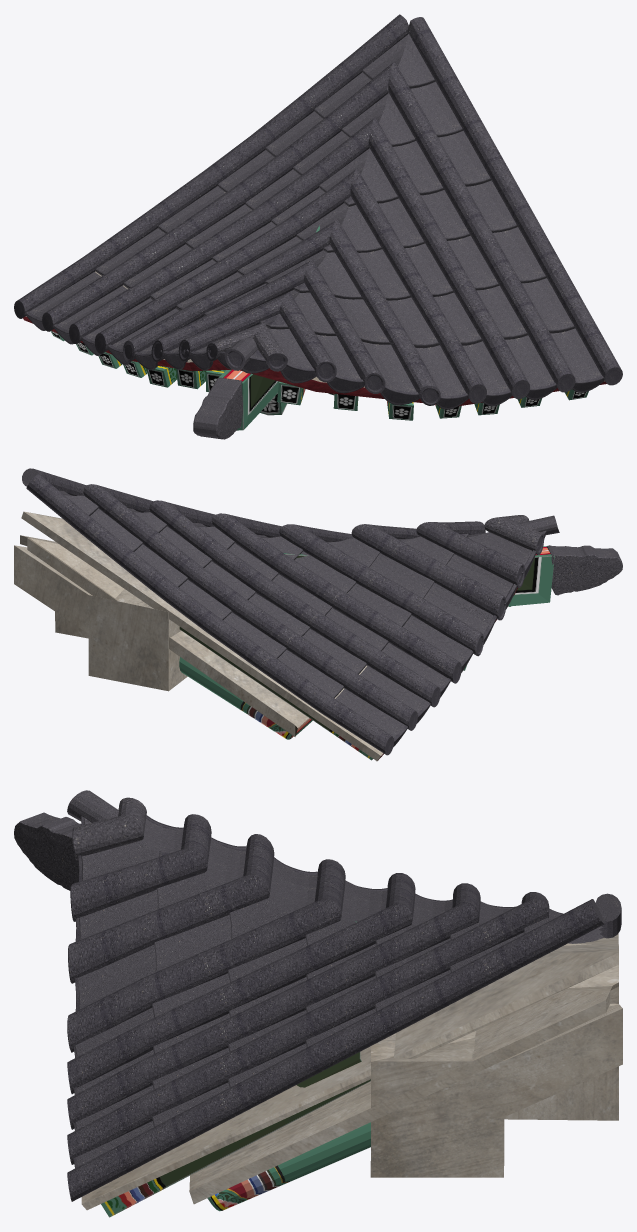
File: SM_R_RoofCorner_20.fbx
The picture shows the model from 3 angles, top to bottom: view 1: azimuth 30°, elevation 25°; view 2: azimuth 150°, elevation 25°; view 3: azimuth 270°, elevation 25°; orthographic projection. The views are drawn at different scales.
Parts seen in each view (by area): view 1: SM_R_RoofCorner_20; view 2: SM_R_RoofCorner_20; view 3: SM_R_RoofCorner_20.
Boxes of the visible parts, x1,y1,x2,y2 form: SM_R_RoofCorner_20: (14,14,622,439); SM_R_RoofCorner_20: (14,468,622,761); SM_R_RoofCorner_20: (14,790,622,1217).
Bounding box in the file's own units: 475 × 427 × 252.
4 materials, 4 textured.
